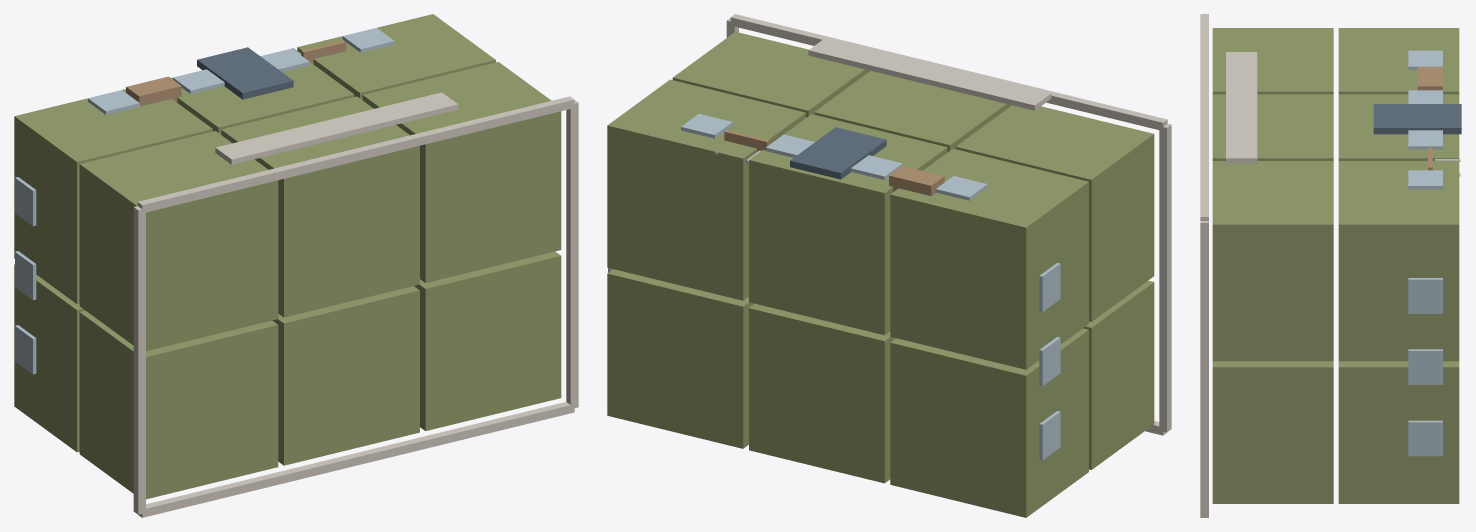
The model's file is building-home-goods-store.glb.
3 views of the same model, side by side, from view 1: azimuth 30°, elevation 25°; view 2: azimuth 150°, elevation 25°; view 3: azimuth 270°, elevation 25° (orthographic). The views are drawn at different scales.
Parts seen in each view (by area): view 1: world; view 2: world; view 3: world.
Part boxes in pixels (left/top/right/bottom): world: left=14, top=14, right=578, bottom=517; world: left=607, top=14, right=1171, bottom=517; world: left=1200, top=14, right=1461, bottom=517.
Bounding box in the file's own units: 15.56 × 10.92 × 8.32.
